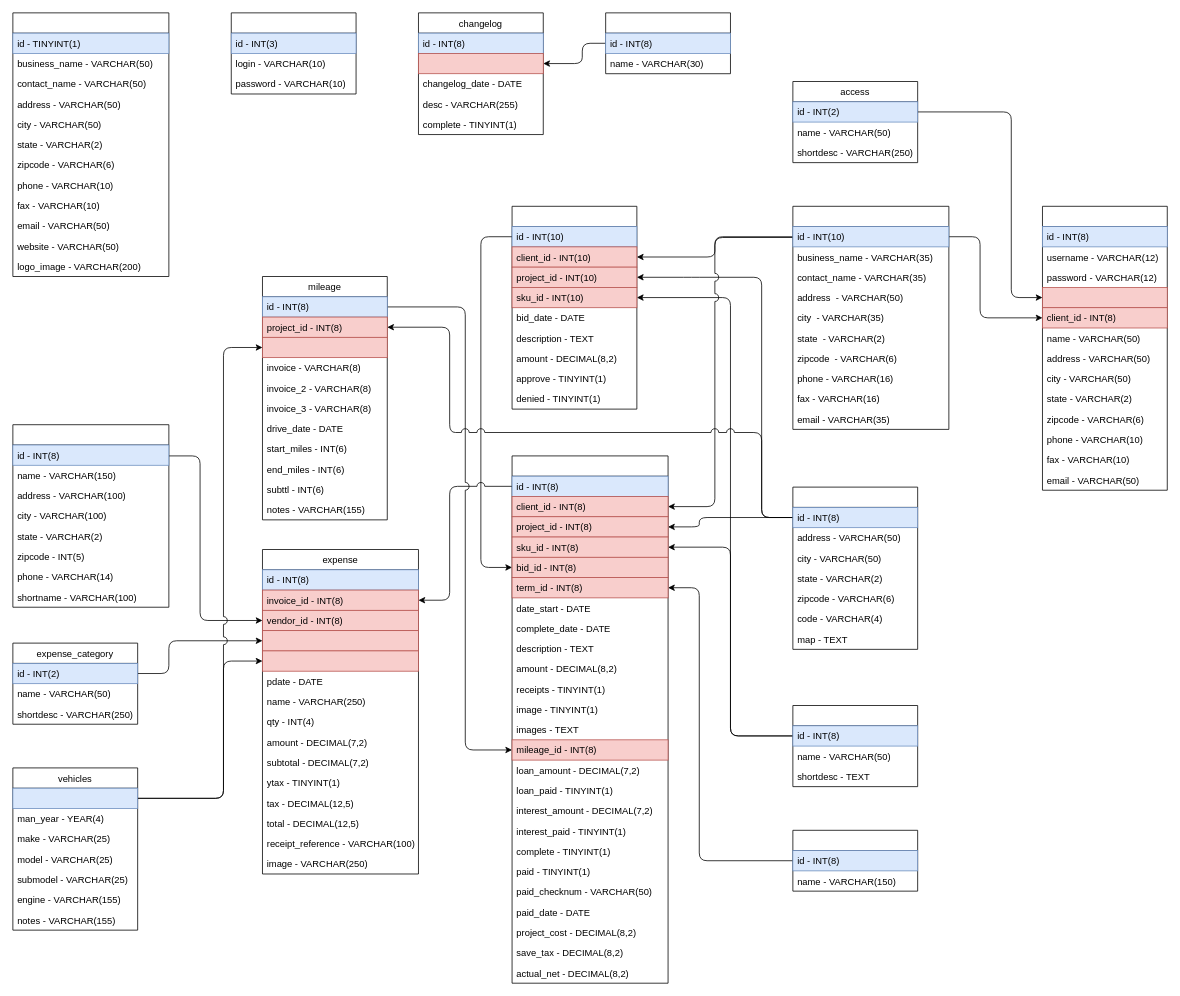
The diagram is 1180 pixels wide and 996 high, and some of its shapes have lost their labels. Here are the shapes that lost their labels. From the top down, the box of each, then its label:
(230, 12, 356, 94): master_login
(605, 12, 730, 74): changelog_category
(418, 53, 543, 74): changelog_id - INT(8)
(12, 12, 169, 277): master
(511, 206, 637, 409): bids
(792, 206, 949, 429): clients
(1042, 287, 1167, 308): access_id - INT(2)
(262, 337, 387, 358): vehicle_id - INT(4)
(1042, 206, 1167, 490): login
(12, 424, 169, 607): vendor
(792, 486, 918, 649): projectsites
(262, 630, 418, 651): expense_category_id - INT(8)
(262, 650, 418, 671): vehicles_id - INT(8)
(511, 455, 668, 983): invoice
(792, 705, 918, 787): sku
(12, 787, 138, 808): id - INT(4)
(792, 830, 918, 891): terms
